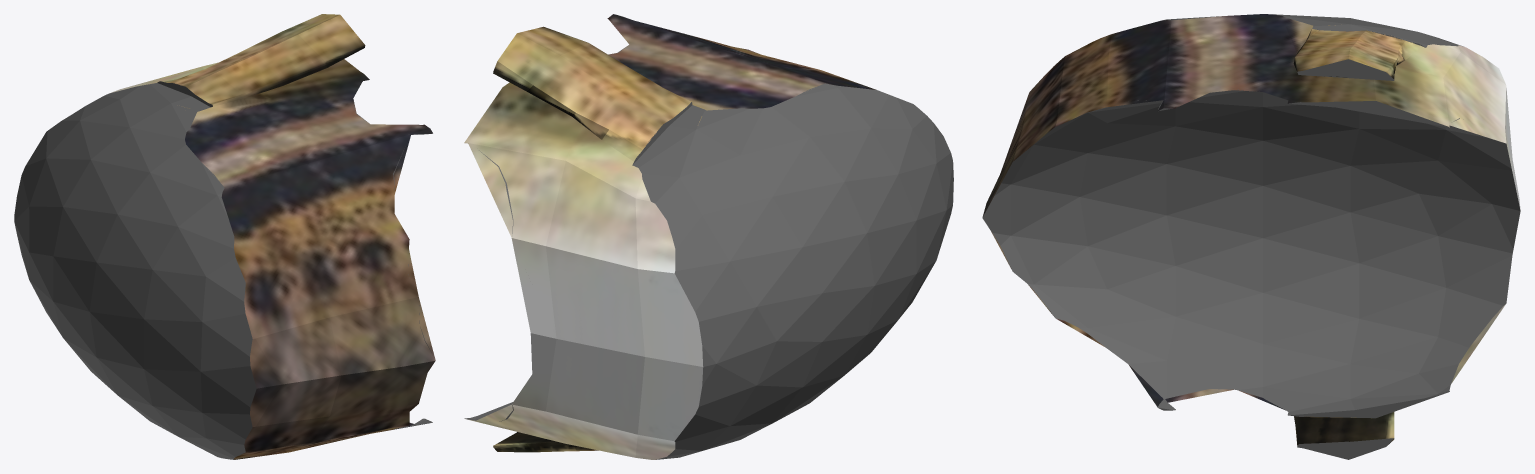
The model's file is link_2_composite.obj.
3 renders of one model, left to right at view 1: azimuth 30°, elevation 25°; view 2: azimuth 150°, elevation 25°; view 3: azimuth 270°, elevation 25°, orthographic. The views are drawn at different scales.
Size of the model in its own units: 0.00201 by 0.00256 by 0.00312.
Materials: 1 (1 with a texture image).
